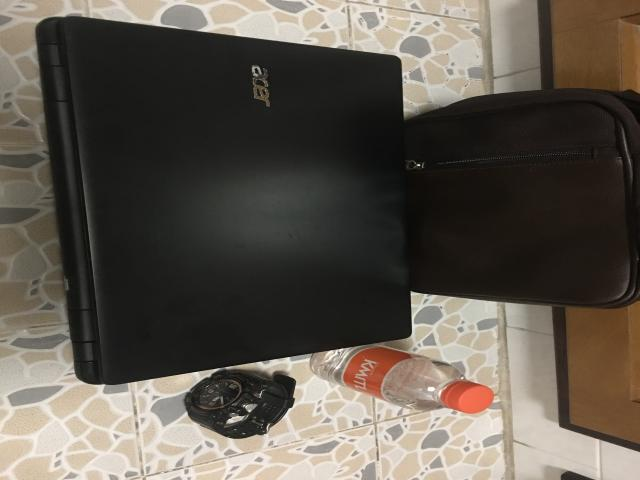Watch: (185, 371, 295, 439)
bottle: (310, 345, 493, 413)
